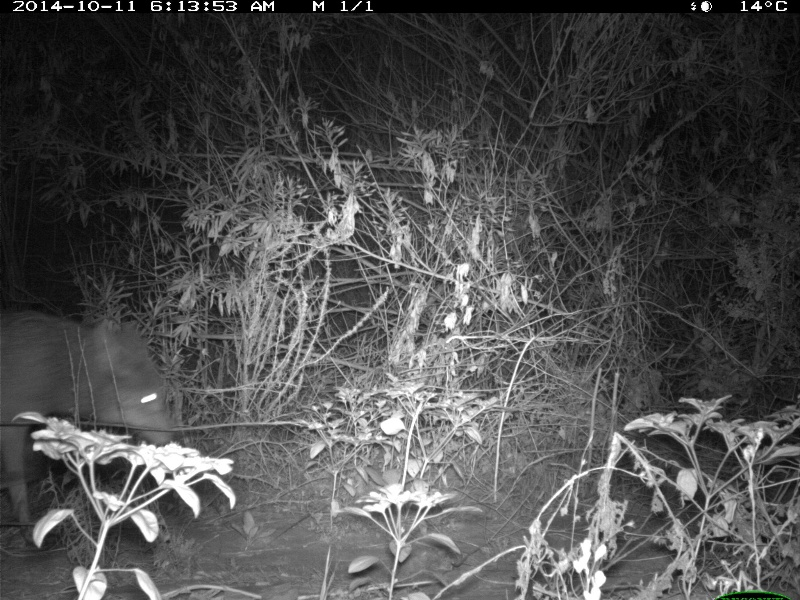coyote: (1, 302, 178, 535)
